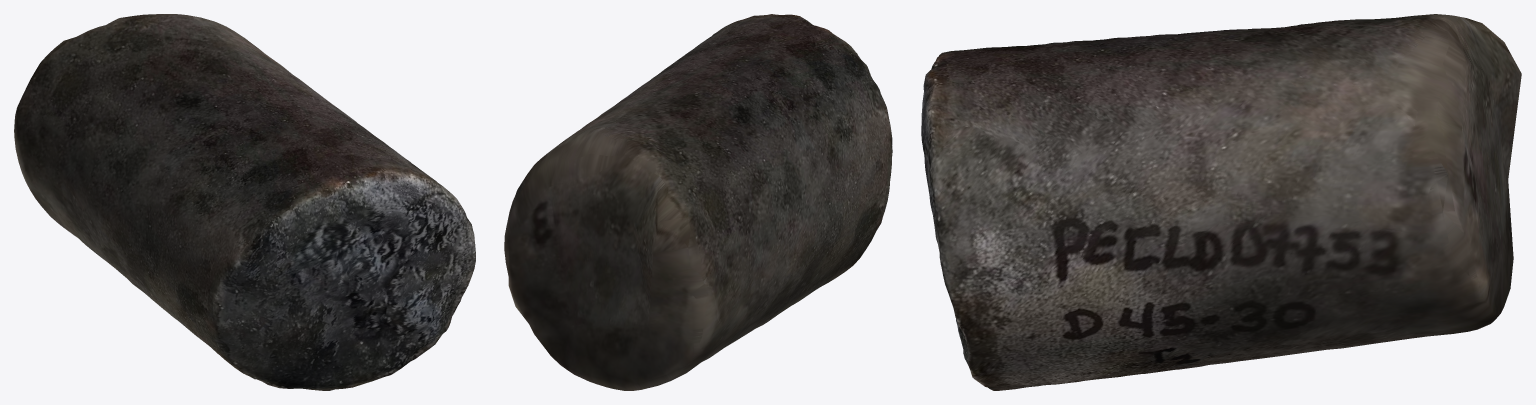
The model's file is PECLD07753 T2.GLB.
3 views of the same model, side by side, from view 1: azimuth 30°, elevation 25°; view 2: azimuth 150°, elevation 25°; view 3: azimuth 270°, elevation 25° (orthographic). The views are drawn at different scales.
Visible parts, largest first — view 1: baked_mesh; view 2: baked_mesh; view 3: baked_mesh.
Boxes of the visible parts, x1,y1,x2,y2 form: baked_mesh: (14,14,475,390); baked_mesh: (504,14,892,390); baked_mesh: (921,14,1521,390).
Bounding box in the file's own units: 0.2039 × 0.2075 × 0.3368.
Materials: 1 (1 with a texture image).
